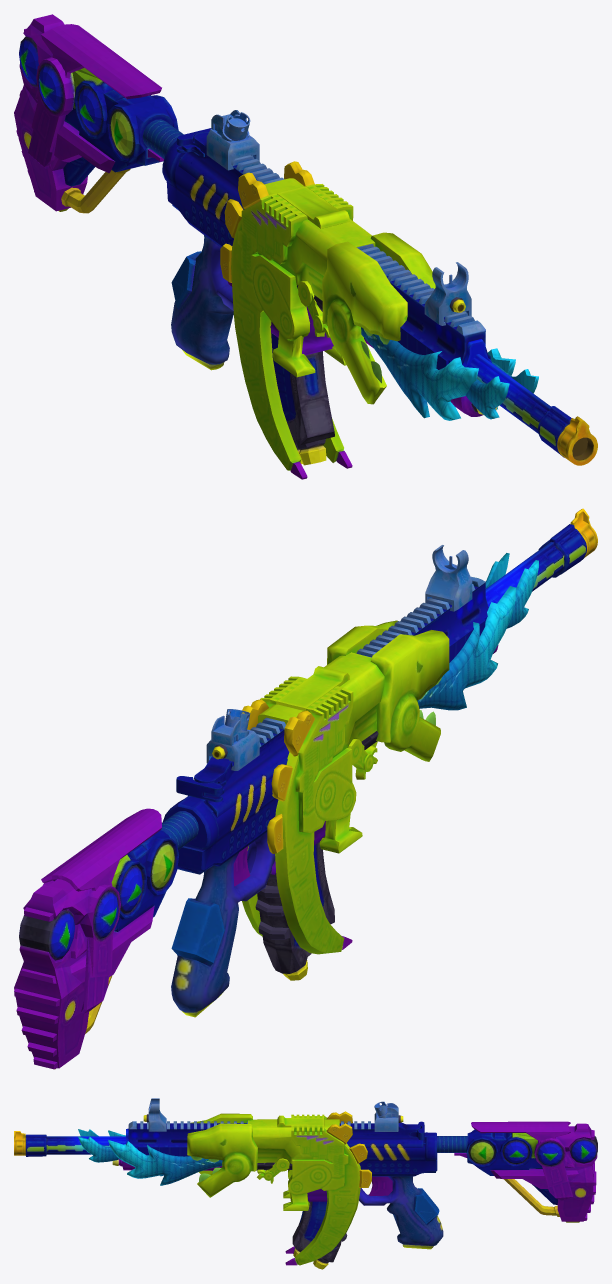
File: m416_lizard_roar.glb
3 renders of one model, top to bottom at view 1: azimuth 30°, elevation 25°; view 2: azimuth 150°, elevation 25°; view 3: azimuth 270°, elevation 25°, orthographic. The views are drawn at different scales.
Visible parts, largest first — view 1: Mesh_0102.rip_mat0.008_0, Mesh_0101.rip_mat0.007_0, Mesh_0100.rip_mat0.006_0, Mesh_0099.rip_mat0.005_0; view 2: Mesh_0102.rip_mat0.008_0, Mesh_0101.rip_mat0.007_0, Mesh_0099.rip_mat0.005_0, Mesh_0100.rip_mat0.006_0; view 3: Mesh_0102.rip_mat0.008_0, Mesh_0101.rip_mat0.007_0, Mesh_0100.rip_mat0.006_0, Mesh_0099.rip_mat0.005_0.
Boxes of the visible parts, left/top/right/bottom form: Mesh_0102.rip_mat0.008_0: left=162, top=128, right=597, bottom=479; Mesh_0101.rip_mat0.007_0: left=14, top=14, right=183, bottom=213; Mesh_0100.rip_mat0.006_0: left=271, top=333, right=334, bottom=465; Mesh_0099.rip_mat0.005_0: left=206, top=110, right=471, bottom=325; Mesh_0102.rip_mat0.008_0: left=163, top=508, right=597, bottom=1017; Mesh_0101.rip_mat0.007_0: left=14, top=808, right=213, bottom=1069; Mesh_0099.rip_mat0.005_0: left=206, top=545, right=472, bottom=770; Mesh_0100.rip_mat0.006_0: left=255, top=842, right=334, bottom=980; Mesh_0102.rip_mat0.008_0: left=14, top=1111, right=443, bottom=1265; Mesh_0101.rip_mat0.007_0: left=423, top=1121, right=597, bottom=1222; Mesh_0100.rip_mat0.006_0: left=292, top=1201, right=347, bottom=1269; Mesh_0099.rip_mat0.005_0: left=143, top=1098, right=403, bottom=1131.
Bounding box in the file's own units: 0.0693 × 0.2941 × 0.9326.
Materials: 1 (1 with a texture image).
